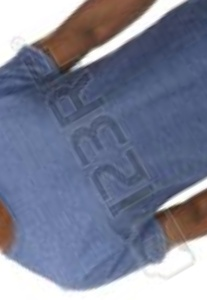arm: (69, 1, 124, 73), (162, 201, 207, 238)
chest: (9, 32, 207, 257)
